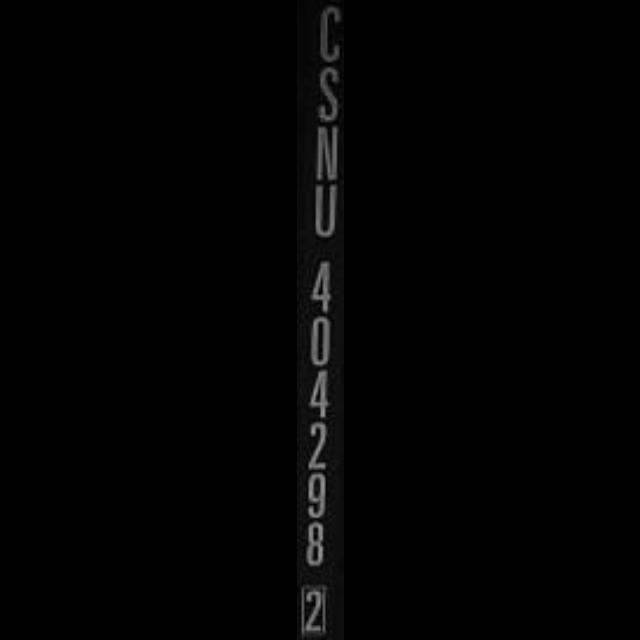0: (298, 310, 344, 370)
2: (296, 418, 344, 472), (296, 576, 332, 640)
4: (298, 252, 344, 310), (296, 367, 344, 419)
8: (296, 516, 334, 570)
9: (298, 472, 344, 522)
c: (308, 0, 344, 68)
n: (308, 118, 344, 182)
s: (308, 66, 344, 124)
u: (306, 180, 344, 242)
